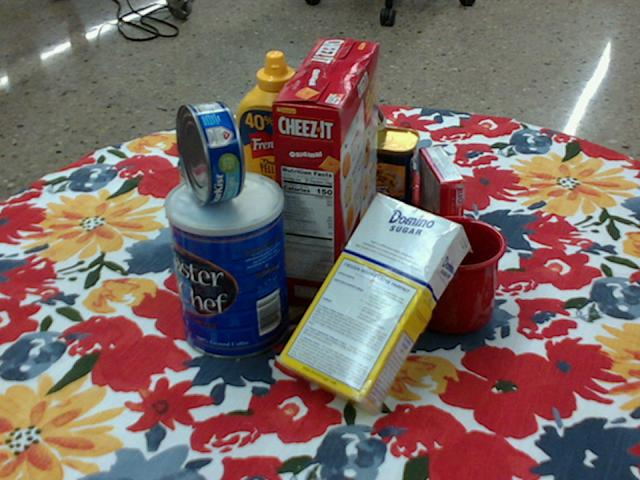cracker_box: (270, 39, 379, 312)
gelatin_box: (420, 144, 465, 240)
large_marker: (351, 78, 387, 129)
master_chef_can: (165, 172, 288, 362)
mug: (377, 215, 505, 334)
mustard_bottle: (235, 51, 327, 225)
potted_meat_can: (327, 122, 420, 213)
sugar_box: (277, 194, 470, 419)
tomato_soup_can: (178, 147, 250, 261)
tuna_fish_can: (175, 101, 245, 205)
